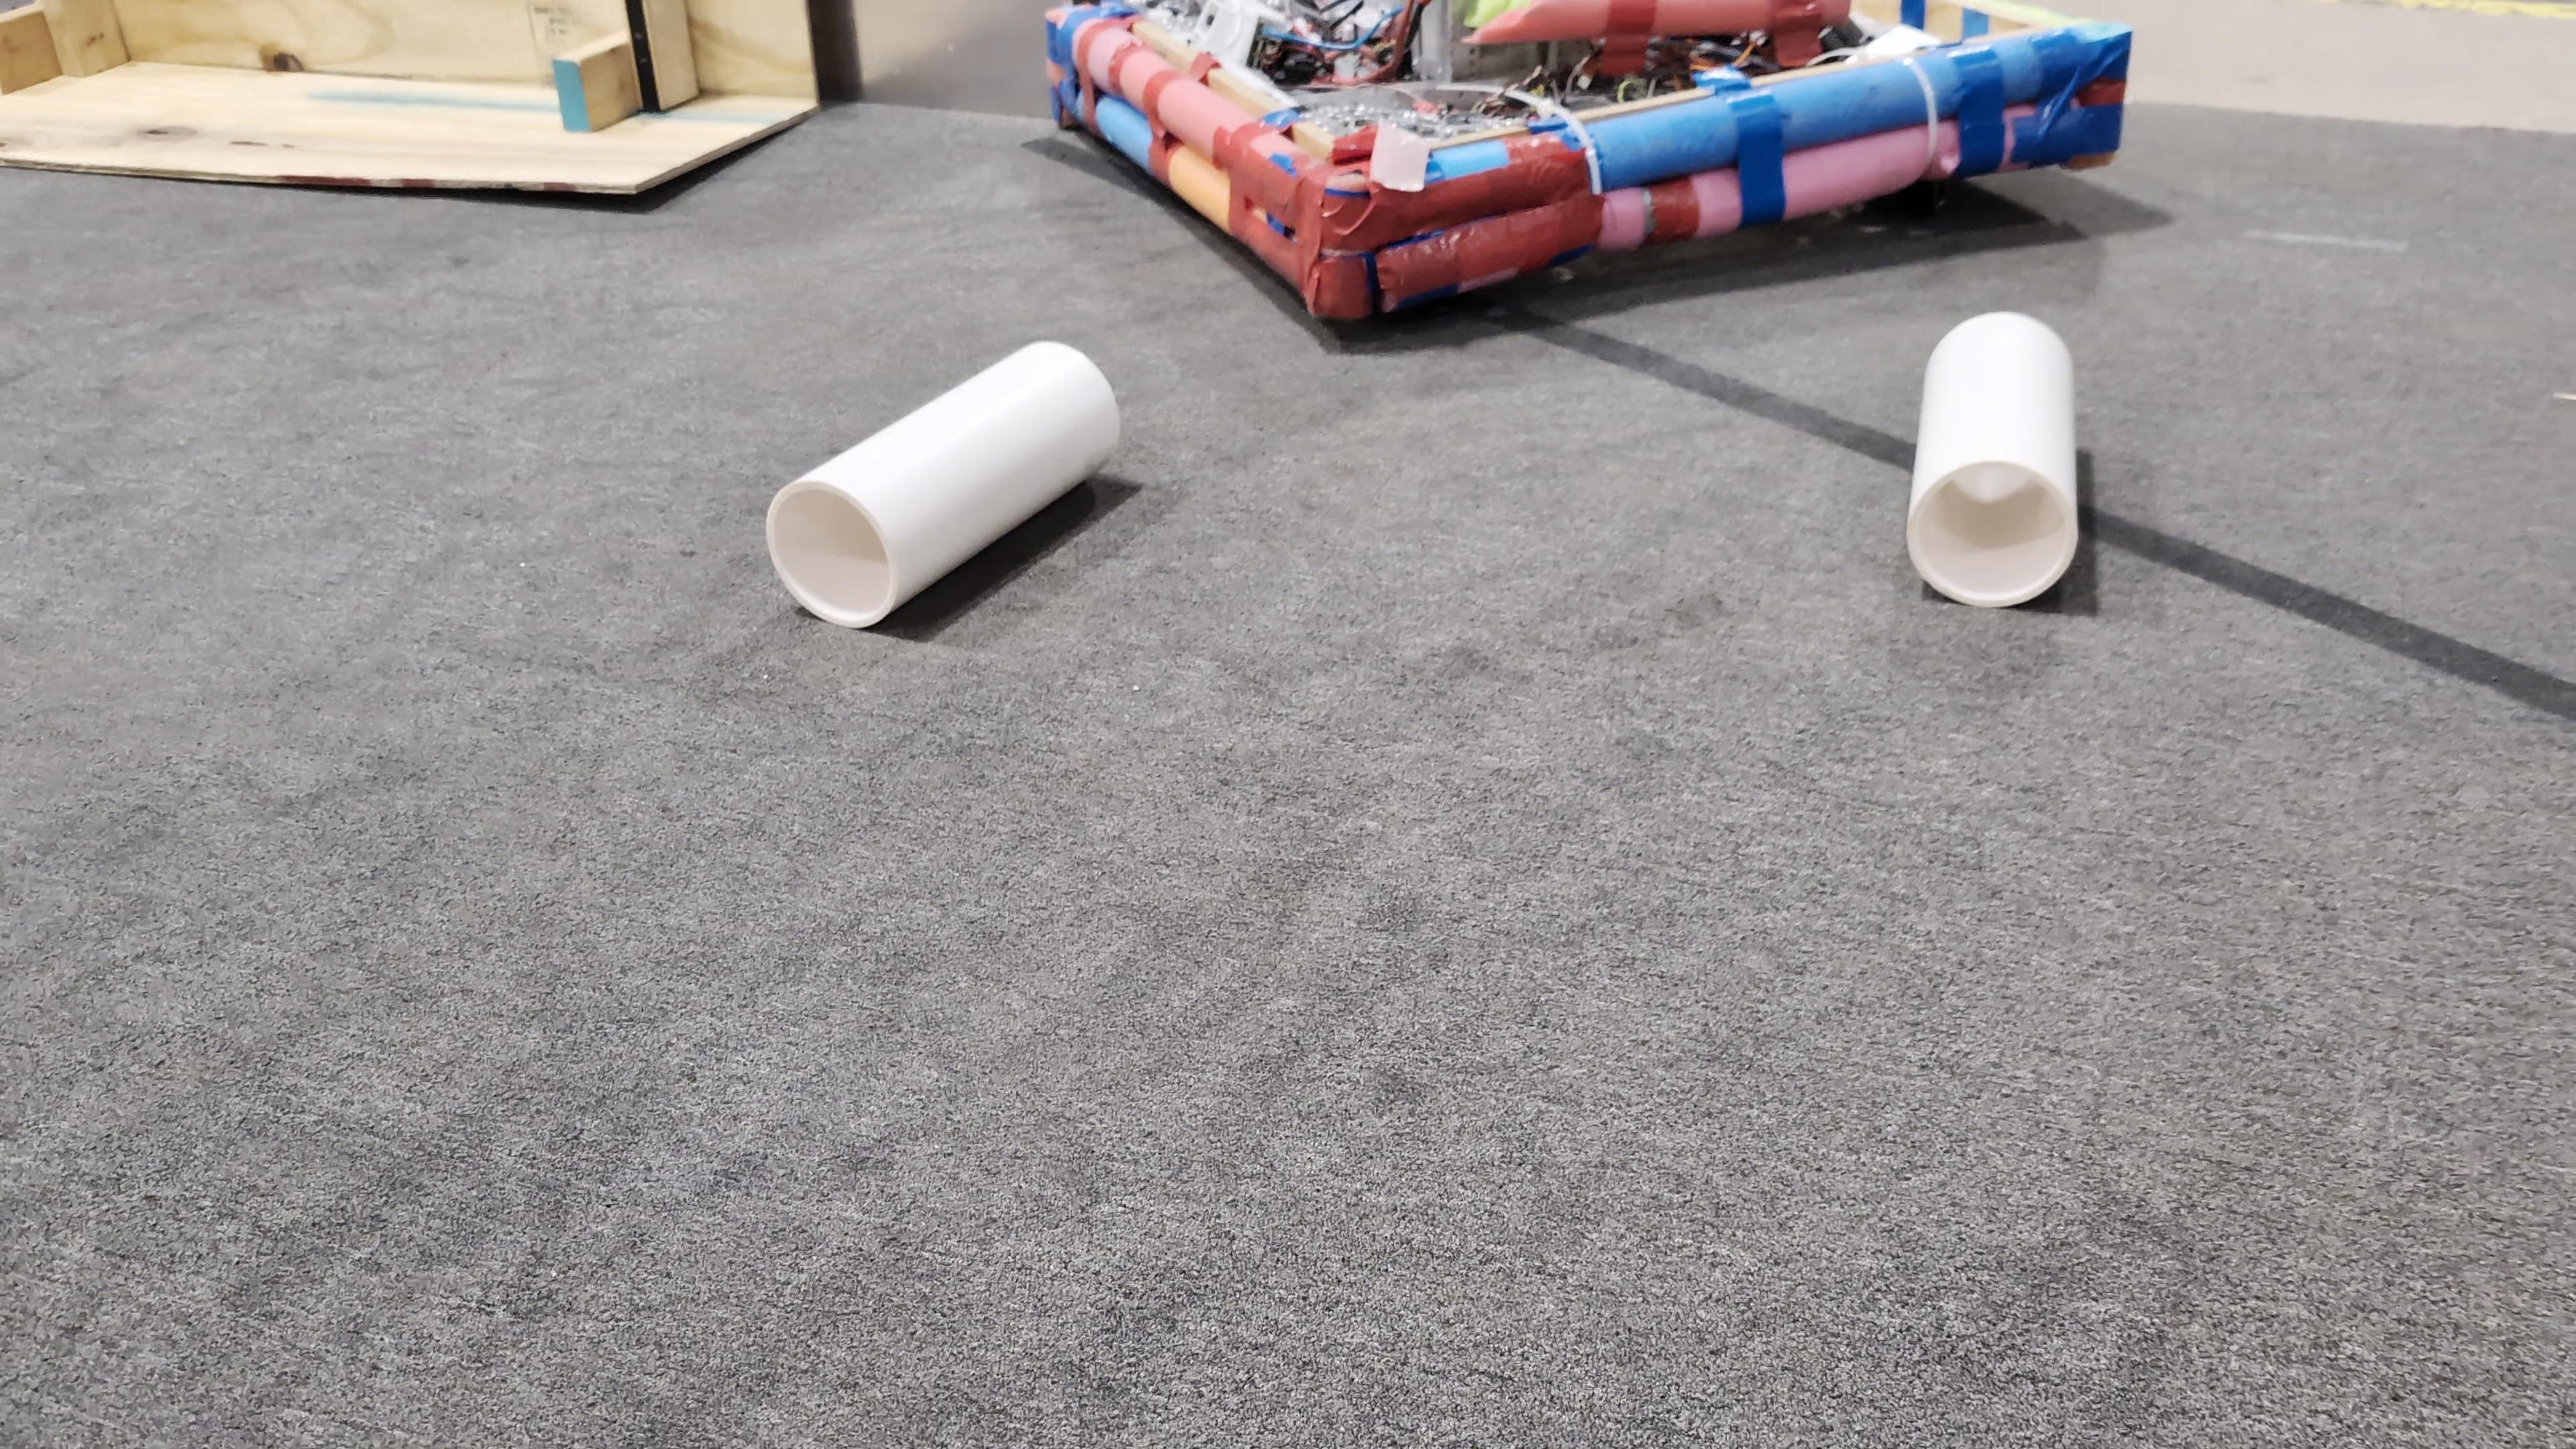coral: (764, 334, 1125, 626), (1902, 308, 2084, 609)
